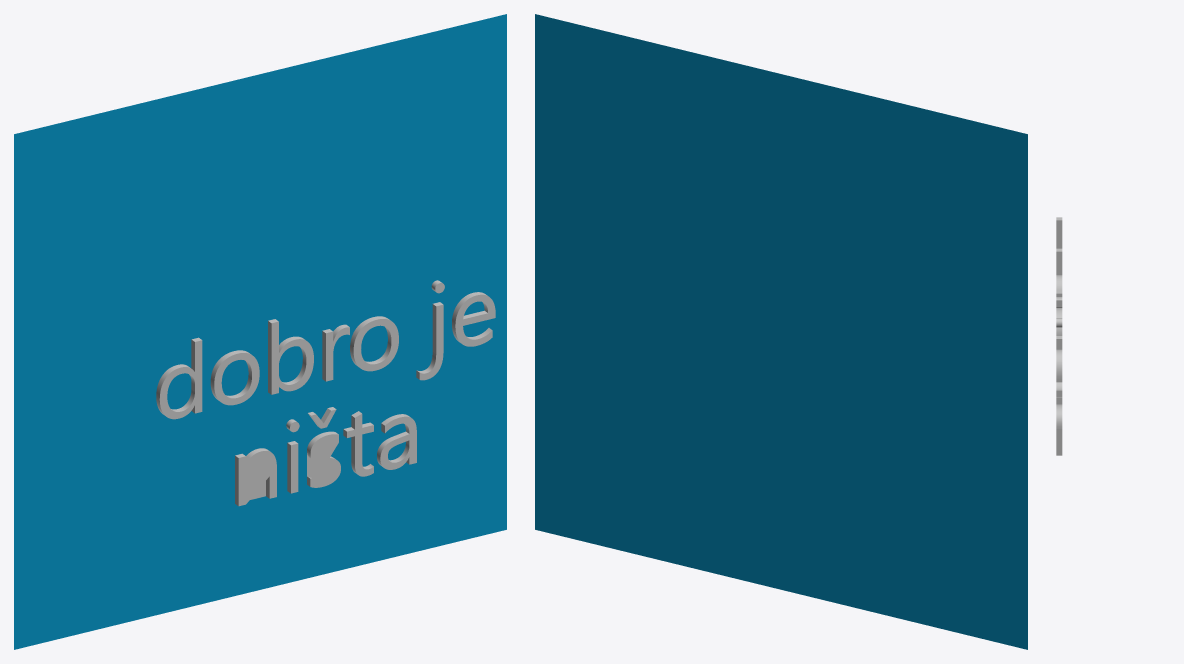
File: ar_cut_v004_kit_v1.obj
3 views of the same model, side by side, from view 1: azimuth 30°, elevation 25°; view 2: azimuth 150°, elevation 25°; view 3: azimuth 270°, elevation 25° (orthographic). The views are drawn at different scales.
Parts seen in each view (by area): view 1: Plane, text; view 2: Plane; view 3: text.
Part boxes in pixels (left/top/right/bottom): Plane: left=14, top=14, right=506, bottom=649; text: left=156, top=280, right=495, bottom=506; Plane: left=535, top=14, right=1027, bottom=649; text: left=1056, top=217, right=1062, bottom=455.
Size of the model in its own units: 400 by 400 by 94.54.
